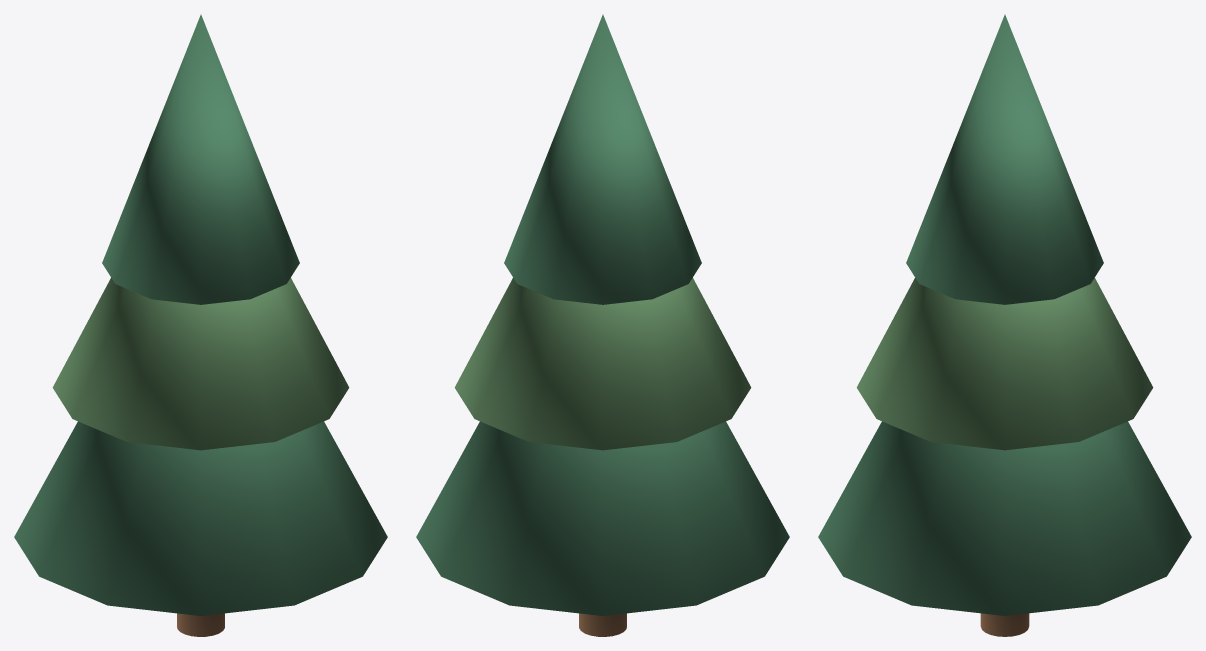
The model's file is pine.glb.
3 renders of one model, left to right at view 1: azimuth 30°, elevation 25°; view 2: azimuth 150°, elevation 25°; view 3: azimuth 270°, elevation 25°, orthographic.
Visible parts, largest first — view 1: pine_leaf, pine_leaflight, pine_wood; view 2: pine_leaf, pine_leaflight, pine_wood; view 3: pine_leaf, pine_leaflight, pine_wood.
Boxes of the visible parts, <box> form: pine_leaf: <box>14,14,387,615</box>; pine_leaflight: <box>52,278,349,450</box>; pine_wood: <box>177,613,224,636</box>; pine_leaf: <box>416,14,789,615</box>; pine_leaflight: <box>454,278,751,450</box>; pine_wood: <box>579,613,626,636</box>; pine_leaf: <box>818,14,1191,615</box>; pine_leaflight: <box>856,278,1153,450</box>; pine_wood: <box>980,613,1029,636</box>.
Bounding box in the file's own units: 3.4 × 6.15 × 3.4.
